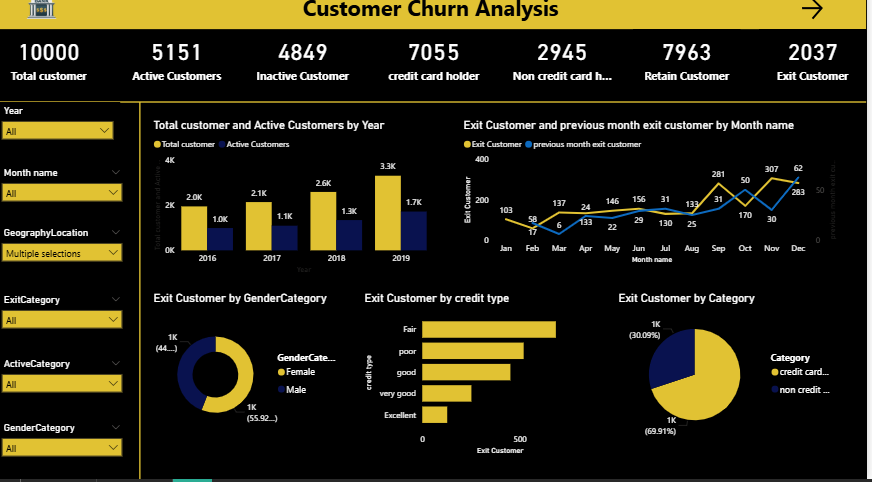

The page's visual inventory and layout, read from the dashboard file:
{"tool":"powerbi","page":{"name":"Page 1","canvas":[1280,720],"ordinal":0},"visuals":[{"type":"card","fields":{"Values":["Calculations.Total customer"]},"box":[0,58.8,157.9,84],"z":0},{"type":"card","fields":{"Values":["Calculations.Active Customers"]},"box":[183.1,58.8,166.3,84],"z":1000},{"type":"card","fields":{"Values":["Calculations.Inactive Customer"]},"box":[367.9,58.8,169.7,84],"z":2000},{"type":"card","fields":{"Values":["Calculations.Count credit holder"]},"box":[564.4,58.8,161.3,84],"z":3000},{"type":"card","fields":{"Values":["Calculations.Non credit card holder"]},"box":[754.2,58.8,159.6,84],"z":4000},{"type":"textbox","box":[0,0,1280,58.8],"z":5000},{"type":"card","fields":{"Values":["Calculations.Retain Customer"]},"box":[937.3,58.8,157.9,84],"z":6000},{"type":"card","fields":{"Values":["Calculations.Exit Customer"]},"box":[1122.1,58.8,157.9,84],"z":7000},{"type":"shape","box":[0,142.8,1280,47],"z":8000},{"type":"shape","box":[196.5,166.3,31.9,554.3],"z":9000},{"type":"slicer","fields":{"Values":["DateMaster.Year"]},"box":[0,166.3,196.5,77.3],"z":10000},{"type":"slicer","fields":{"Values":["DateMaster.Month name"]},"box":[0,257,196.5,77.3],"z":11000},{"type":"slicer","fields":{"Values":["Geography.GeographyLocation"]},"box":[0,346,196.5,77.3],"z":12000},{"type":"slicer","fields":{"Values":["ExitCustomer.ExitCategory"]},"box":[0,443.5,196.5,77.3],"z":13000},{"type":"slicer","fields":{"Values":["ActiveCustomer.ActiveCategory"]},"box":[0,537.5,196.5,77.3],"z":14000},{"type":"slicer","fields":{"Values":["Gender.GenderCategory"]},"box":[0,631.6,196.5,77.3],"z":15000},{"type":"clusteredColumnChart","fields":{"Category":["DateMaster.Year","DateMaster.Month"],"Y":["Calculations.Total customer","Calculations.Active Customers"]},"box":[228.5,189.8,411.5,233.5],"z":16000},{"type":"lineChart","fields":{"Category":["DateMaster.Month name"],"Y":["Calculations.Exit Customer"],"Y2":["Calculations.previous month exit customer"]},"box":[683.7,189.8,557.7,218.4],"z":17000},{"type":"donutChart","fields":{"Y":["Calculations.Exit Customer"],"Category":["Gender.GenderCategory"]},"box":[228.5,443.5,287.2,226.8],"z":18000},{"type":"clusteredBarChart","fields":{"Category":["Bank_Churn.bank type"],"Y":["Calculations.Exit Customer"]},"box":[537.5,443.5,334.3,245.2],"z":19000},{"type":"pieChart","fields":{"Y":["Calculations.Exit Customer"],"Category":["Creditcard.Category"]},"box":[910.4,443.5,330.9,226.8],"z":20000},{"type":"image","box":[0,0,136.9,49.1],"z":21000},{"type":"actionButton","box":[1180.1,9.2,99.9,40.7],"z":22000}]}

Visuals, with their boxes in screenshot pixels (x1, y1, x2, y2), scaled from the page's 1280x720 canvas onto the 872x482 screenshot:
card - Calculations.Total customer: rect(0, 39, 108, 96)
card - Calculations.Active Customers: rect(125, 39, 238, 96)
card - Calculations.Inactive Customer: rect(251, 39, 366, 96)
card - Calculations.Count credit holder: rect(384, 39, 494, 96)
card - Calculations.Non credit card holder: rect(514, 39, 623, 96)
textbox: rect(0, 0, 871, 39)
card - Calculations.Retain Customer: rect(639, 39, 746, 96)
card - Calculations.Exit Customer: rect(764, 39, 871, 96)
shape: rect(0, 96, 871, 127)
shape: rect(134, 111, 156, 481)
slicer - DateMaster.Year: rect(0, 111, 134, 163)
slicer - DateMaster.Month name: rect(0, 172, 134, 224)
slicer - Geography.GeographyLocation: rect(0, 232, 134, 283)
slicer - ExitCustomer.ExitCategory: rect(0, 297, 134, 349)
slicer - ActiveCustomer.ActiveCategory: rect(0, 360, 134, 412)
slicer - Gender.GenderCategory: rect(0, 423, 134, 475)
clusteredColumnChart - DateMaster.Year x DateMaster.Month: rect(156, 127, 436, 283)
lineChart - DateMaster.Month name x Calculations.Exit Customer: rect(466, 127, 846, 273)
donutChart - Calculations.Exit Customer x Gender.GenderCategory: rect(156, 297, 351, 449)
clusteredBarChart - Bank_Churn.bank type x Calculations.Exit Customer: rect(366, 297, 594, 461)
pieChart - Calculations.Exit Customer x Creditcard.Category: rect(620, 297, 846, 449)
image: rect(0, 0, 93, 33)
actionButton: rect(804, 6, 871, 33)
